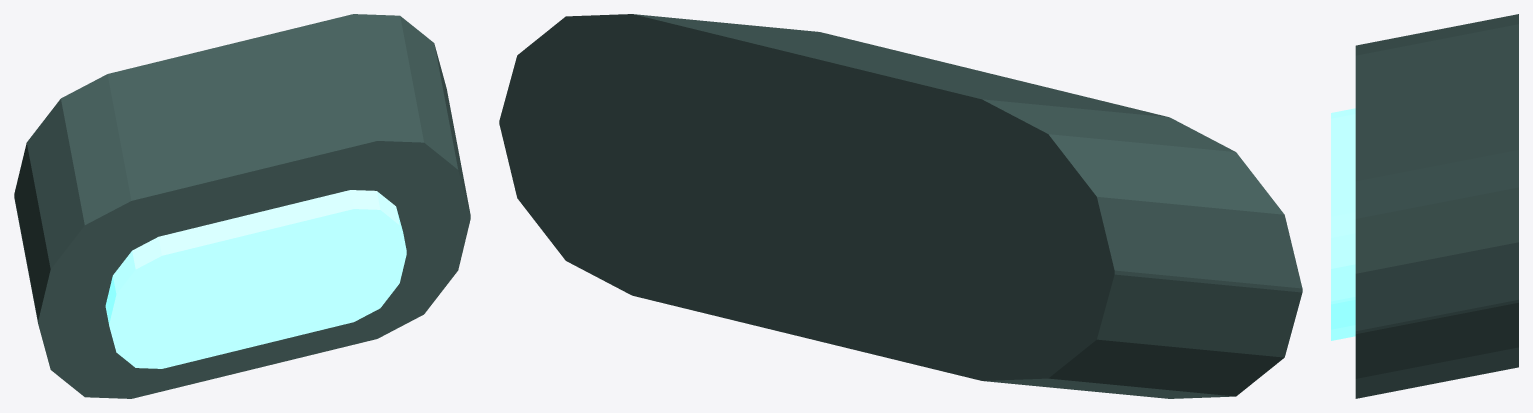
The model's file is Signal_Lamp.gltf.
The picture shows the model from 3 angles, left to right: view 1: azimuth 30°, elevation 25°; view 2: azimuth 150°, elevation 25°; view 3: azimuth 270°, elevation 25°; orthographic projection. The views are drawn at different scales.
Parts seen in each view (by area): view 1: Signal_Lamp_baked; view 2: Signal_Lamp_baked; view 3: Signal_Lamp_baked.
Part boxes in pixels (left/top/right/bottom): Signal_Lamp_baked: left=14, top=14, right=470, bottom=398; Signal_Lamp_baked: left=499, top=14, right=1302, bottom=398; Signal_Lamp_baked: left=1331, top=14, right=1518, bottom=398.
Size of the model in its own units: 0.36 by 0.18 by 0.115.
